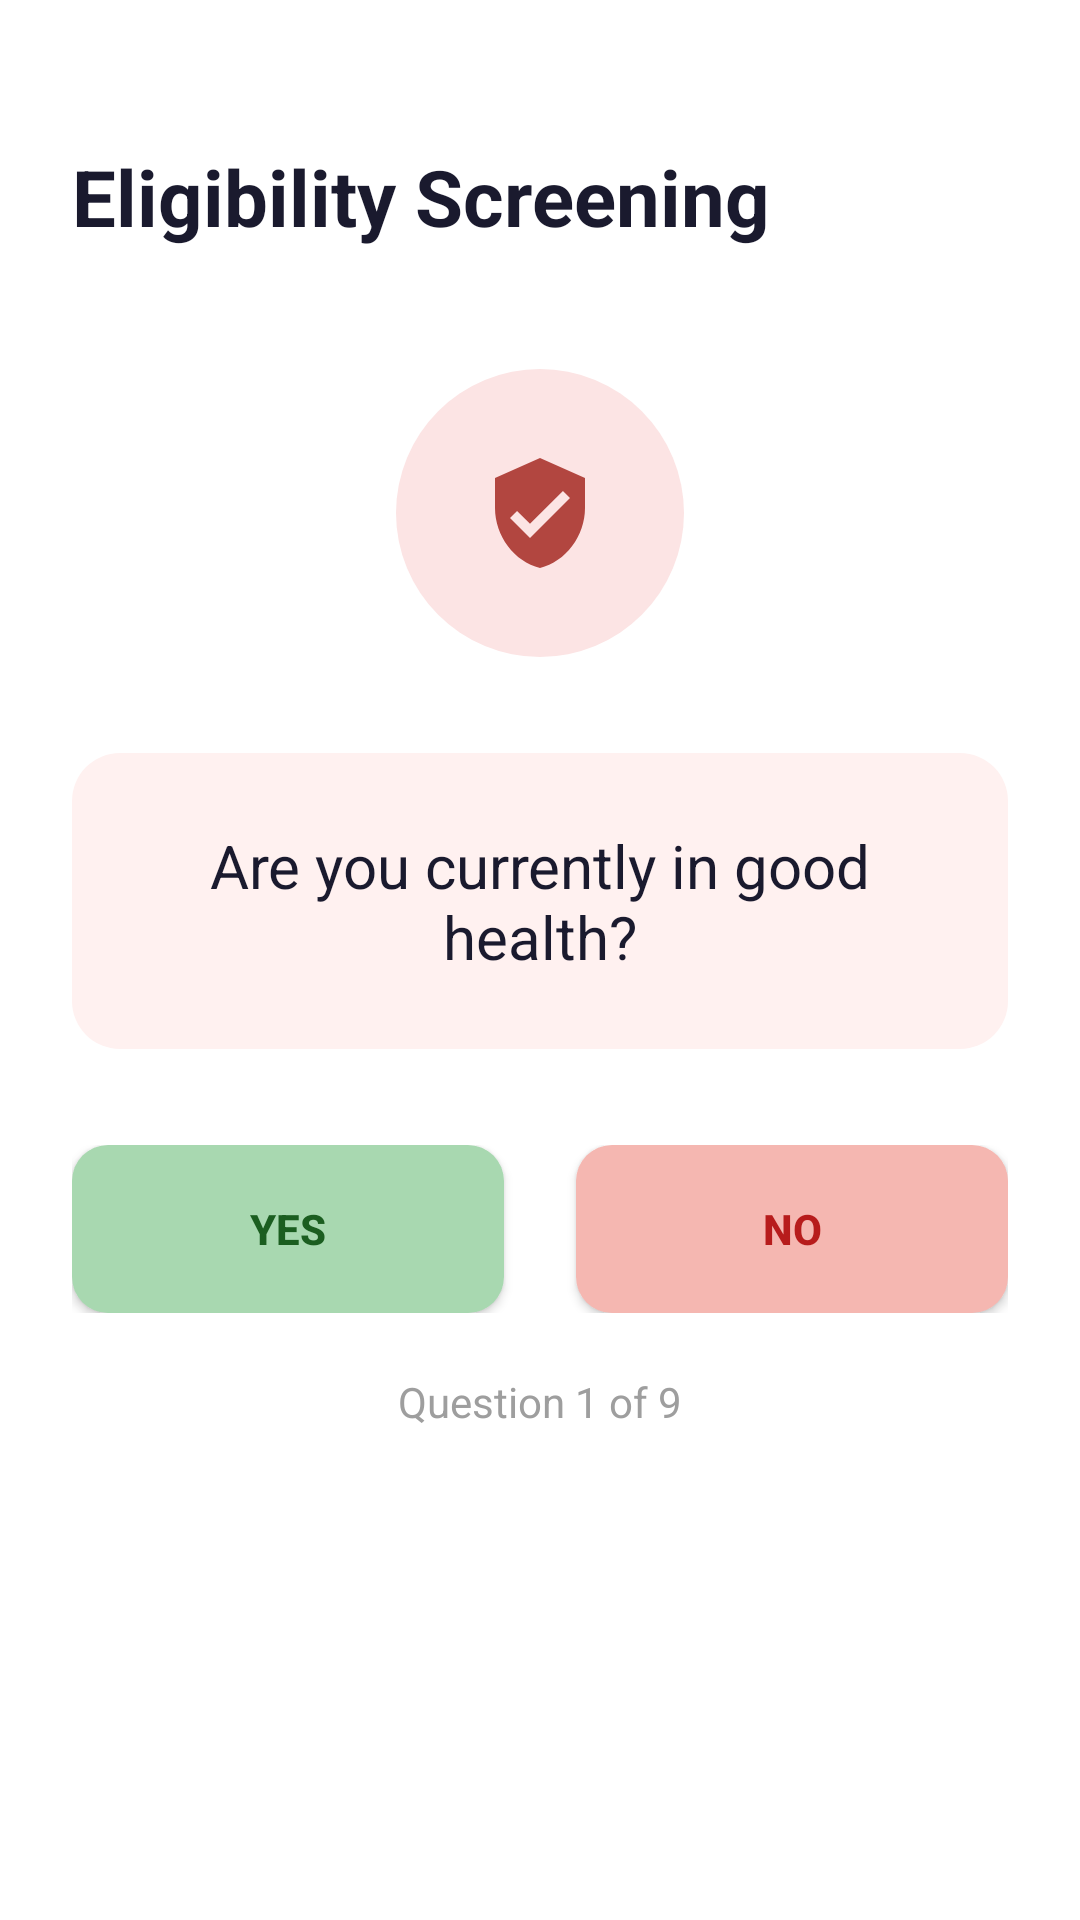

Named icons in this screenshot (1080 x 1920) and their bounding boxes, (x1, y1, x2, y2):
shield check: (495, 458, 585, 568)
